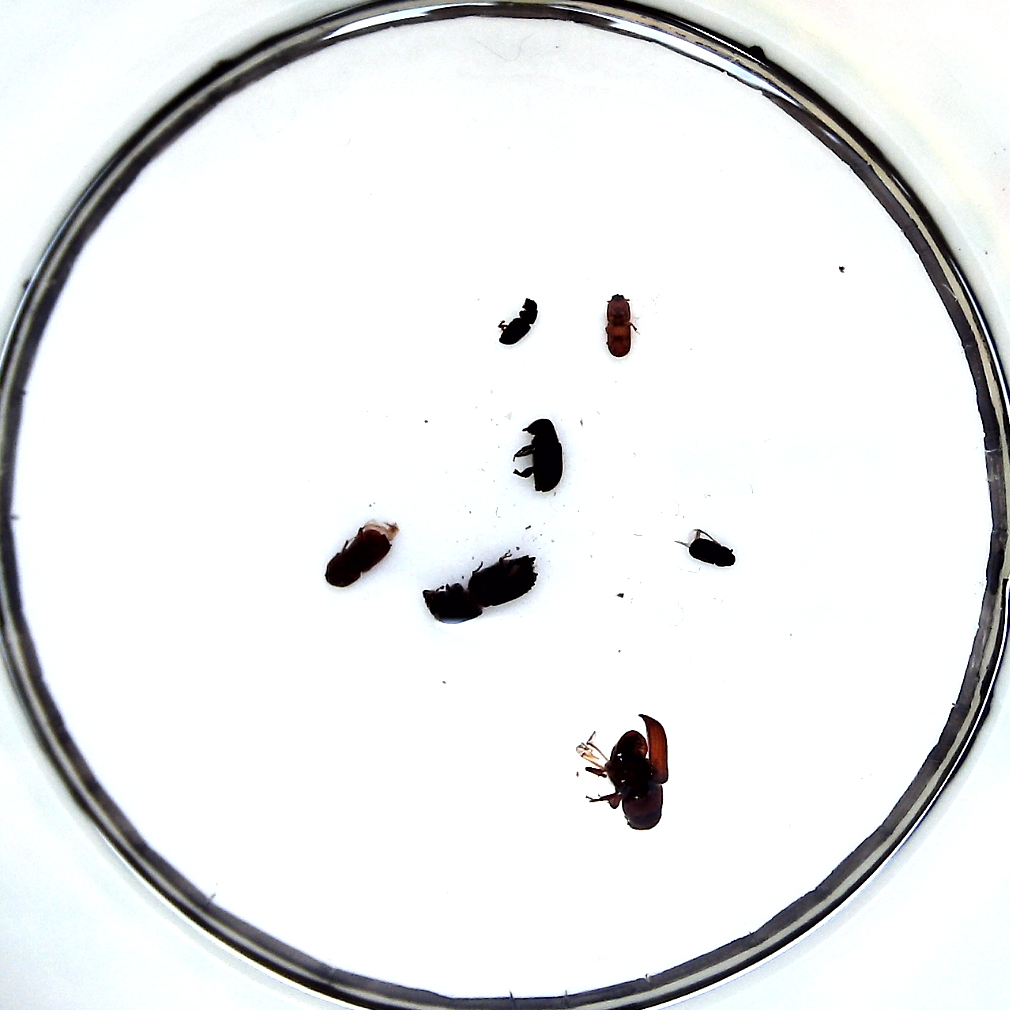Boerner: (419, 556, 540, 619)
Leconte: (594, 715, 674, 831)
Linnaeus: (320, 528, 391, 585)
acuminatus: (602, 292, 634, 358)
armandi: (511, 419, 562, 491)
coleoptera: (498, 298, 541, 346), (686, 531, 734, 564)
